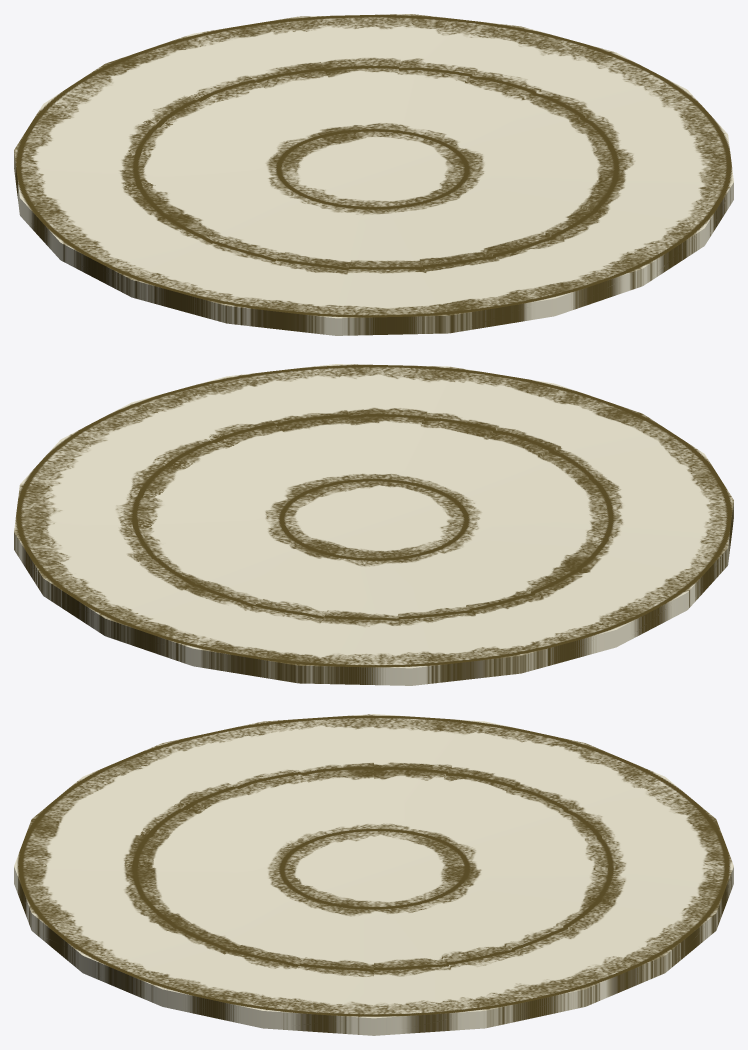
The model's file is small_light.fbx.
3 views of the same model, one above another, from view 1: azimuth 30°, elevation 25°; view 2: azimuth 150°, elevation 25°; view 3: azimuth 270°, elevation 25° (orthographic).
Parts seen in each view (by area): view 1: pCylinder1; view 2: pCylinder1; view 3: pCylinder1.
Boxes of the visible parts, x1,y1,x2,y2 form: pCylinder1: (14,14,733,335); pCylinder1: (14,364,733,685); pCylinder1: (14,714,733,1035).
Size of the model in its own units: 1.29 by 0.2939 by 1.29.
